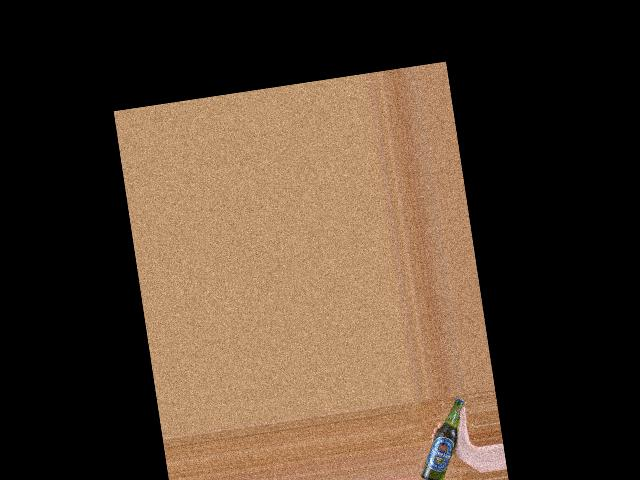beer: (410, 396, 475, 480)
